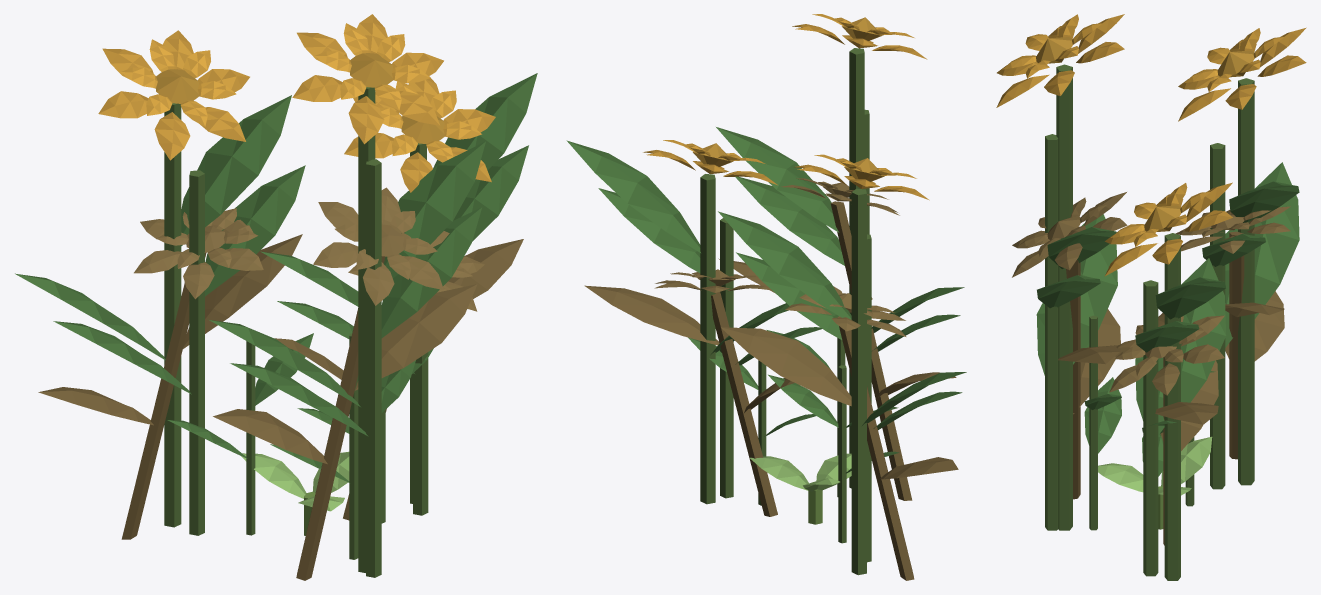
The model's file is autumn_chrysanthemum.glb.
The picture shows the model from 3 angles, left to right: view 1: azimuth 30°, elevation 25°; view 2: azimuth 150°, elevation 25°; view 3: azimuth 270°, elevation 25°; orthographic projection. The views are drawn at different scales.
Visible parts, largest first — view 1: stage3, dead, stage2, stage1, stage0; view 2: stage3, dead, stage2, stage1, stage0; view 3: stage3, dead, stage2, stage1, stage0.
Part boxes in pixels (x1=…): stage3: x1=15, y1=14, x2=537, y2=572; dead: x1=38, y1=187, x2=523, y2=580; stage2: x1=53, y1=145, x2=528, y2=577; stage1: x1=167, y1=333, x2=433, y2=559; stage0: x1=241, y1=451, x2=349, y2=535; stage3: x1=566, y1=14, x2=966, y2=575; dead: x1=584, y1=178, x2=958, y2=580; stage2: x1=598, y1=109, x2=962, y2=562; stage1: x1=688, y1=330, x2=899, y2=543; stage0: x1=750, y1=453, x2=851, y2=524; stage3: x1=996, y1=14, x2=1306, y2=580; dead: x1=1012, y1=192, x2=1290, y2=545; stage2: x1=1036, y1=134, x2=1265, y2=576; stage1: x1=1084, y1=315, x2=1218, y2=530; stage0: x1=1098, y1=436, x2=1212, y2=529.
Bounding box in the file's own units: 0.7327 × 0.7683 × 0.4285.
